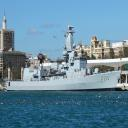Fragata: (7, 25, 123, 92)
